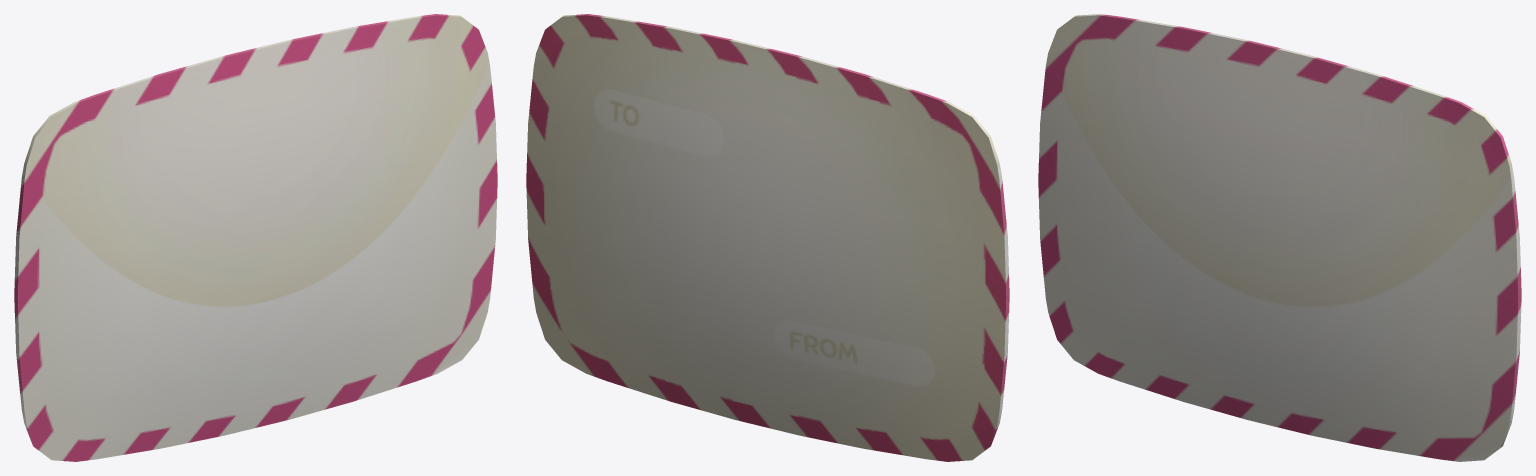
File: letter.FBX
The picture shows the model from 3 angles, left to right: view 1: azimuth 30°, elevation 25°; view 2: azimuth 150°, elevation 25°; view 3: azimuth 330°, elevation 25°; orthographic projection.
Parts seen in each view (by area): view 1: letter; view 2: letter; view 3: letter.
Part boxes in pixels (box(x1,y1,x2,y2)): letter: box(14, 14, 497, 461); letter: box(526, 14, 1009, 461); letter: box(1038, 14, 1521, 461).
Bounding box in the file's own units: 39.64 × 29.84 × 3.26.
